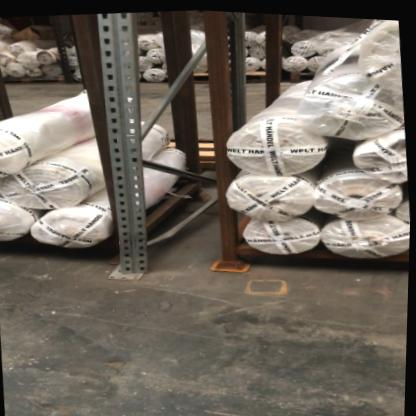vertical_damage: (112, 230, 173, 288)
